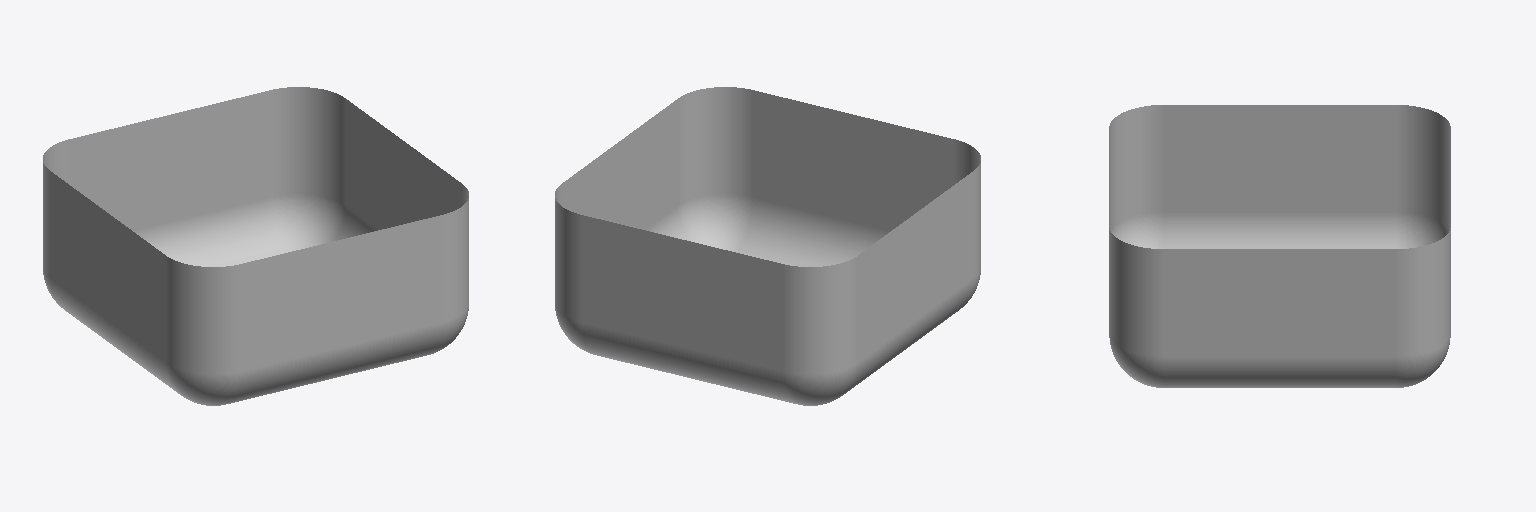
File: palmtree.obj
The picture shows the model from 3 angles: view 1: azimuth 30°, elevation 25°; view 2: azimuth 150°, elevation 25°; view 3: azimuth 270°, elevation 25°; orthographic projection.
Parts seen in each view (by area): view 1: Plane.003_Plane.002; view 2: Plane.003_Plane.002; view 3: Plane.003_Plane.002.
Boxes of the visible parts, box(x1,y1,x2,y2) form: Plane.003_Plane.002: box(43, 87, 468, 405); Plane.003_Plane.002: box(555, 87, 980, 405); Plane.003_Plane.002: box(1109, 105, 1450, 387).
Bounding box in the file's own units: 220 × 112 × 220.